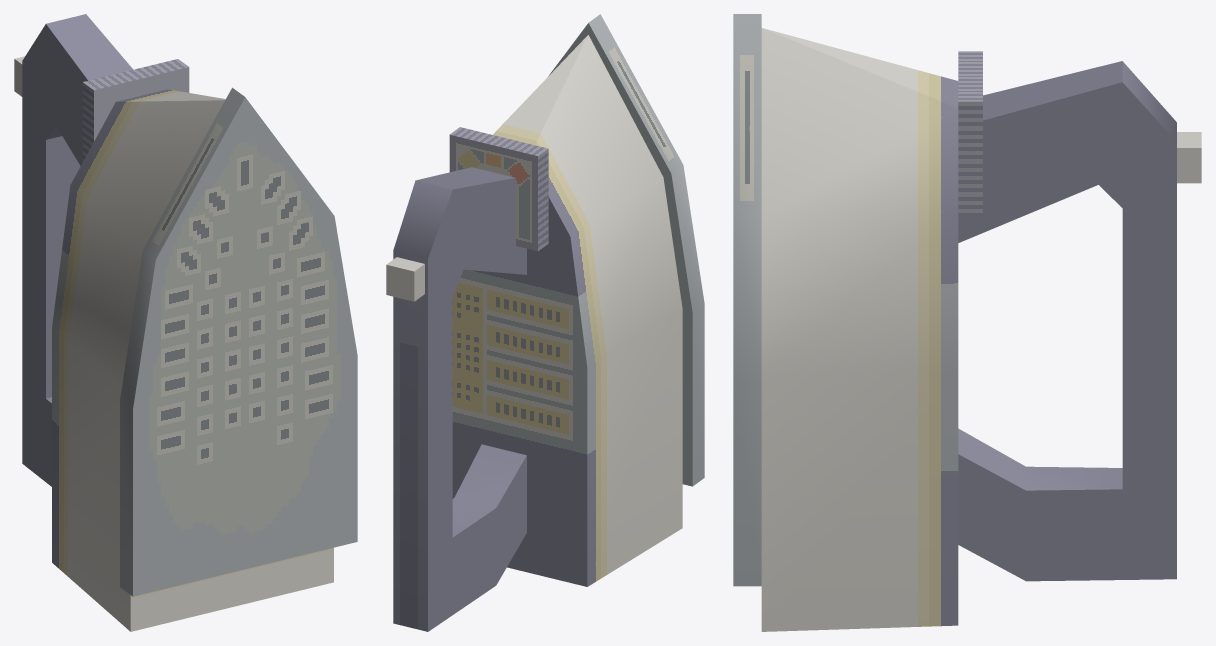
Rendered from 0022_Iron.glb.
3 views of the same model, side by side, from view 1: azimuth 30°, elevation 25°; view 2: azimuth 150°, elevation 25°; view 3: azimuth 270°, elevation 25° (orthographic). The views are drawn at different scales.
Visible parts, largest first — view 1: part_0; view 2: part_0; view 3: part_0.
Boxes of the visible parts, left/top/right/bottom form: part_0: left=14, top=14, right=357, bottom=631; part_0: left=386, top=14, right=704, bottom=631; part_0: left=733, top=14, right=1201, bottom=631.
Bounding box in the file's own units: 0.1197 × 0.2648 × 0.1991.
Materials: 1 (1 with a texture image).
